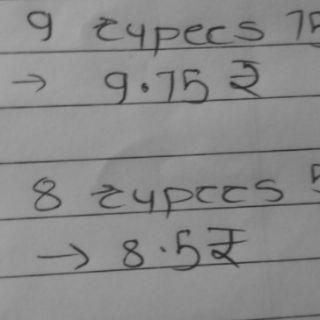.: (138, 80, 151, 95), (158, 244, 167, 254)
2: (228, 57, 264, 96)
5: (171, 228, 200, 272), (181, 66, 210, 104)
7: (154, 69, 177, 103)
8: (31, 173, 66, 212), (117, 237, 147, 269)
9: (24, 8, 57, 46), (102, 68, 131, 105)
